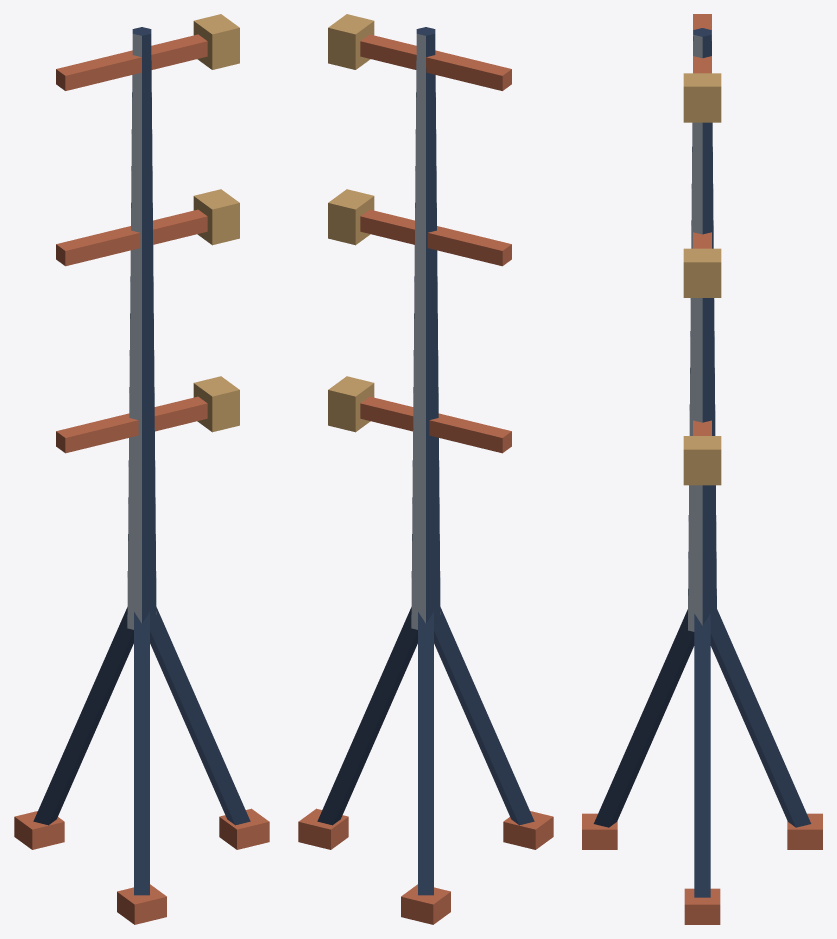
Rendered from weather-mast.glb.
3 views of the same model, side by side, from view 1: azimuth 30°, elevation 25°; view 2: azimuth 150°, elevation 25°; view 3: azimuth 270°, elevation 25° (orthographic).
Parts seen in each view (by area): view 1: weather-mast; view 2: weather-mast; view 3: weather-mast.
Boxes of the visible parts, x1,y1,x2,y2 form: weather-mast: (14, 14, 269, 924); weather-mast: (298, 14, 553, 924); weather-mast: (582, 14, 822, 924).
Size of the model in its own units: 1.23 by 4.9 by 1.28.
